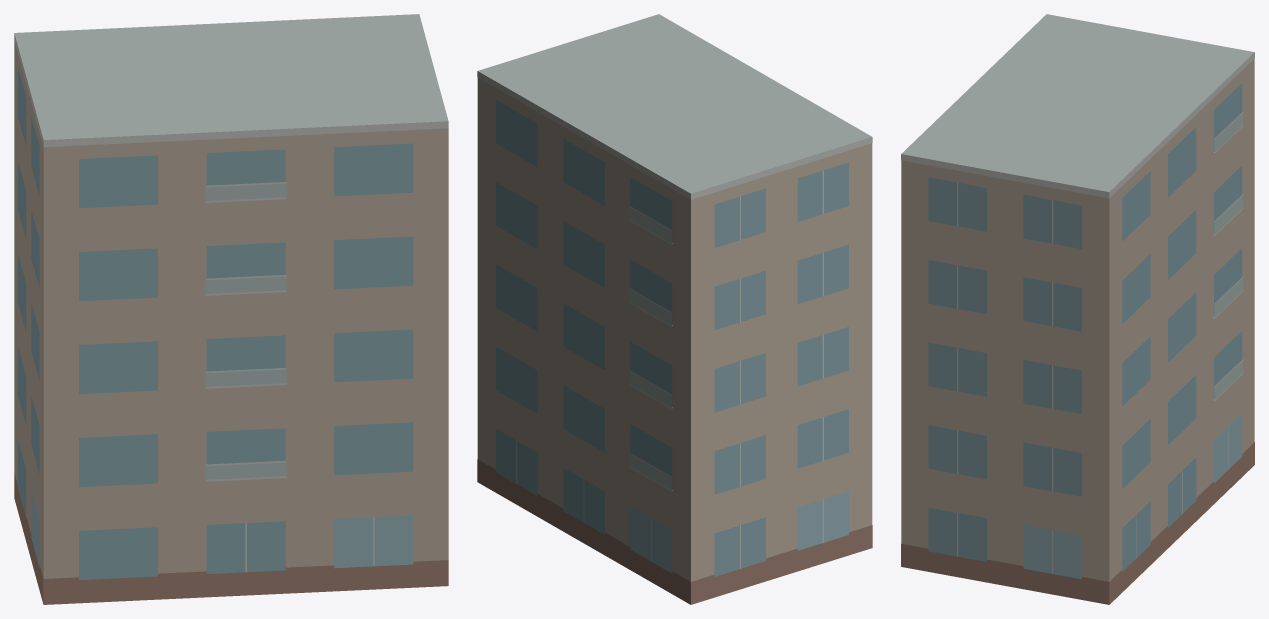
Rendered from survey-upis-32990957.glb.
The picture shows the model from 3 angles, left to right: view 1: azimuth 30°, elevation 25°; view 2: azimuth 150°, elevation 25°; view 3: azimuth 270°, elevation 25°; orthographic projection. The views are drawn at different scales.
Visible parts, largest first — view 1: survey-upis-32990957.tmp; view 2: survey-upis-32990957.tmp; view 3: survey-upis-32990957.tmp.
Boxes of the visible parts, x1,y1,x2,y2 form: survey-upis-32990957.tmp: (14, 14, 448, 604); survey-upis-32990957.tmp: (477, 14, 872, 604); survey-upis-32990957.tmp: (901, 14, 1254, 604).
Size of the model in its own units: 14.91 by 16.1 by 12.51.
